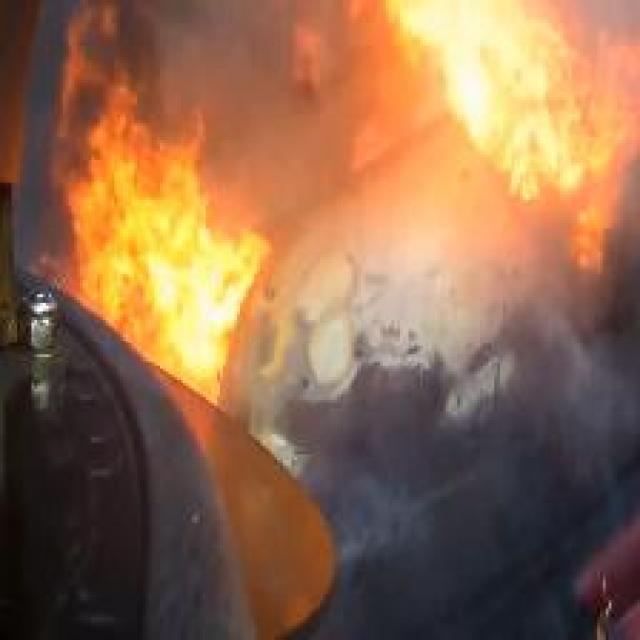Fire: (32, 0, 268, 460), (351, 0, 638, 280)
